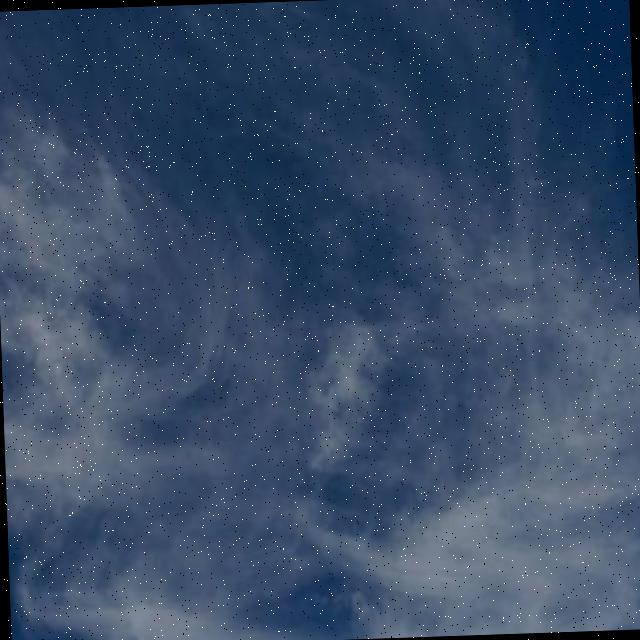Cc: (1, 6, 640, 626)
